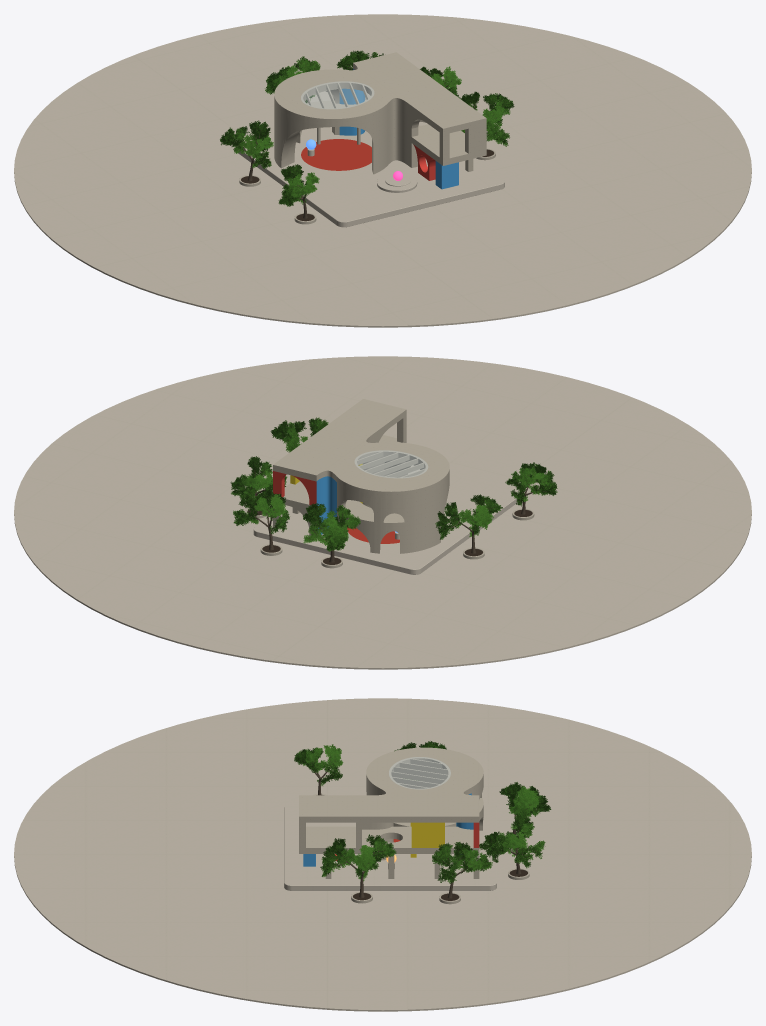
Rendered from concrete-pavilion.glb.
3 renders of one model, top to bottom at view 1: azimuth 30°, elevation 25°; view 2: azimuth 150°, elevation 25°; view 3: azimuth 270°, elevation 25°, orthographic.
Parts seen in each view (by area): view 1: Ground, Structure, Plinth, Glass, Tree4_Leaves, Tree2_Leaves, Tree5_Leaves, Tree1_Leaves, Dais, Pier_Blue, Tree3_Leaves; view 2: Ground, Structure, Plinth, Tree1_Leaves, Glass, Tree4_Leaves, Tree6_Leaves, Tree5_Leaves, Tree3_Leaves, Tree2_Leaves, Planters; view 3: Ground, Structure, Plinth, Tree2_Leaves, Tree6_Leaves, Glass, Tree3_Leaves, Tree1_Leaves, Tree5_Leaves.
Part boxes in pixels (x1,y1,x2,y2): Ground: (14, 14, 751, 327); Structure: (274, 52, 486, 180); Plinth: (238, 122, 504, 227); Glass: (301, 81, 373, 108); Tree4_Leaves: (220, 120, 273, 168); Tree2_Leaves: (459, 91, 514, 146); Tree5_Leaves: (278, 164, 319, 206); Tree1_Leaves: (265, 56, 320, 102); Dais: (377, 174, 417, 192); Pier_Blue: (435, 161, 458, 189); Tree3_Leaves: (420, 66, 461, 97); Ground: (14, 356, 751, 669); Structure: (273, 399, 449, 553); Plinth: (253, 466, 518, 574); Tree1_Leaves: (303, 503, 360, 551); Glass: (355, 450, 427, 477); Tree4_Leaves: (435, 494, 502, 539); Tree6_Leaves: (233, 490, 289, 533); Tree5_Leaves: (505, 462, 557, 506); Tree3_Leaves: (230, 456, 287, 499); Tree2_Leaves: (270, 417, 328, 452); Planters: (245, 508, 534, 568); Ground: (14, 698, 751, 1011); Structure: (299, 747, 483, 878); Plinth: (284, 804, 496, 890); Tree2_Leaves: (320, 834, 396, 881); Tree6_Leaves: (479, 814, 545, 868); Glass: (389, 757, 450, 789); Tree3_Leaves: (432, 842, 492, 883); Tree1_Leaves: (499, 782, 551, 829); Tree5_Leaves: (294, 744, 343, 785).
Bounding box in the file's own units: 88 × 9.14 × 88.
Materials: 15 (9 with a texture image).
